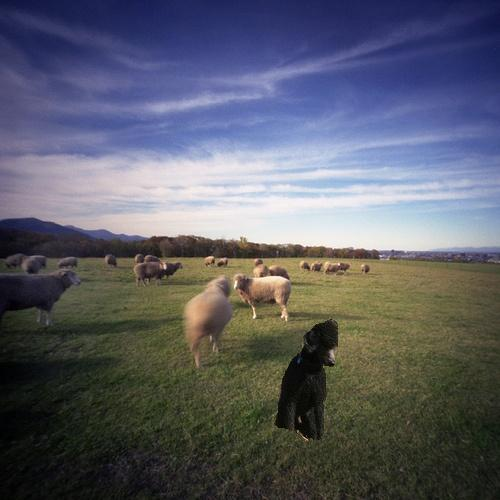tampered: (275, 320, 338, 441)
